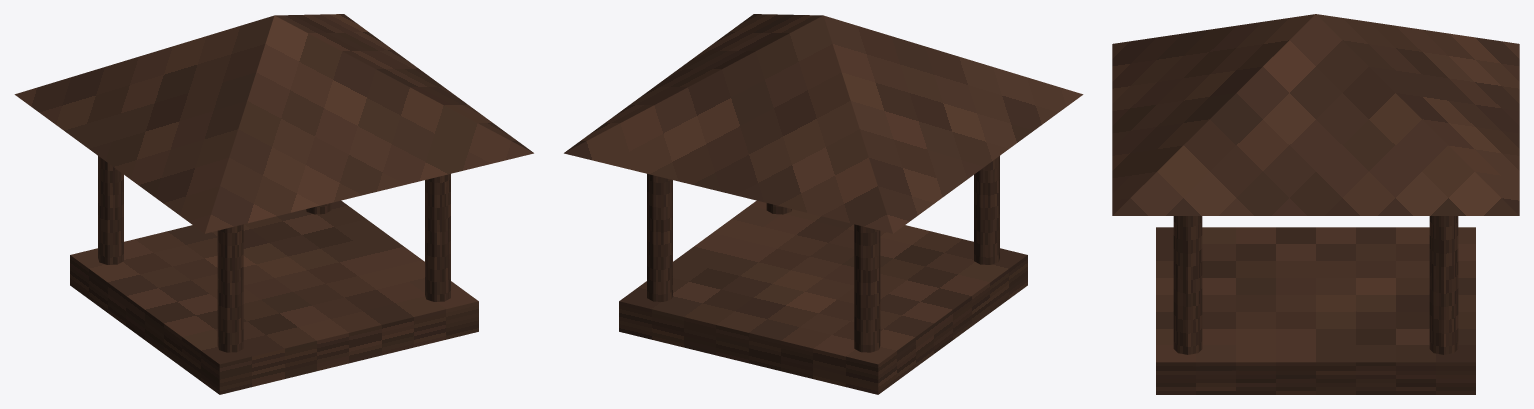
Rendered from pavilion_07.glb.
3 views of the same model, side by side, from view 1: azimuth 30°, elevation 25°; view 2: azimuth 150°, elevation 25°; view 3: azimuth 270°, elevation 25° (orthographic). The views are drawn at different scales.
Visible parts, largest first — view 1: Roof, Floor, Column, Column.002, Column.001; view 2: Roof, Floor, Column.001, Column.003, Column; view 3: Roof, Floor, Column.002, Column.003.
Boxes of the visible parts, left/top/right/bottom form: Roof: left=14, top=14, right=533, bottom=233; Floor: left=70, top=200, right=478, bottom=394; Column: left=217, top=224, right=243, bottom=352; Column.002: left=425, top=174, right=450, bottom=301; Column.001: left=98, top=156, right=123, bottom=264; Roof: left=564, top=14, right=1083, bottom=233; Floor: left=619, top=200, right=1027, bottom=394; Column.001: left=854, top=224, right=880, bottom=352; Column.003: left=647, top=174, right=672, bottom=301; Column: left=974, top=156, right=999, bottom=264; Roof: left=1112, top=14, right=1519, bottom=215; Floor: left=1156, top=227, right=1475, bottom=394; Column.002: left=1173, top=216, right=1202, bottom=354; Column.003: left=1429, top=216, right=1458, bottom=354.
Bounding box in the file's own units: 3.39 × 2.88 × 3.39.
Materials: 1 (1 with a texture image).
